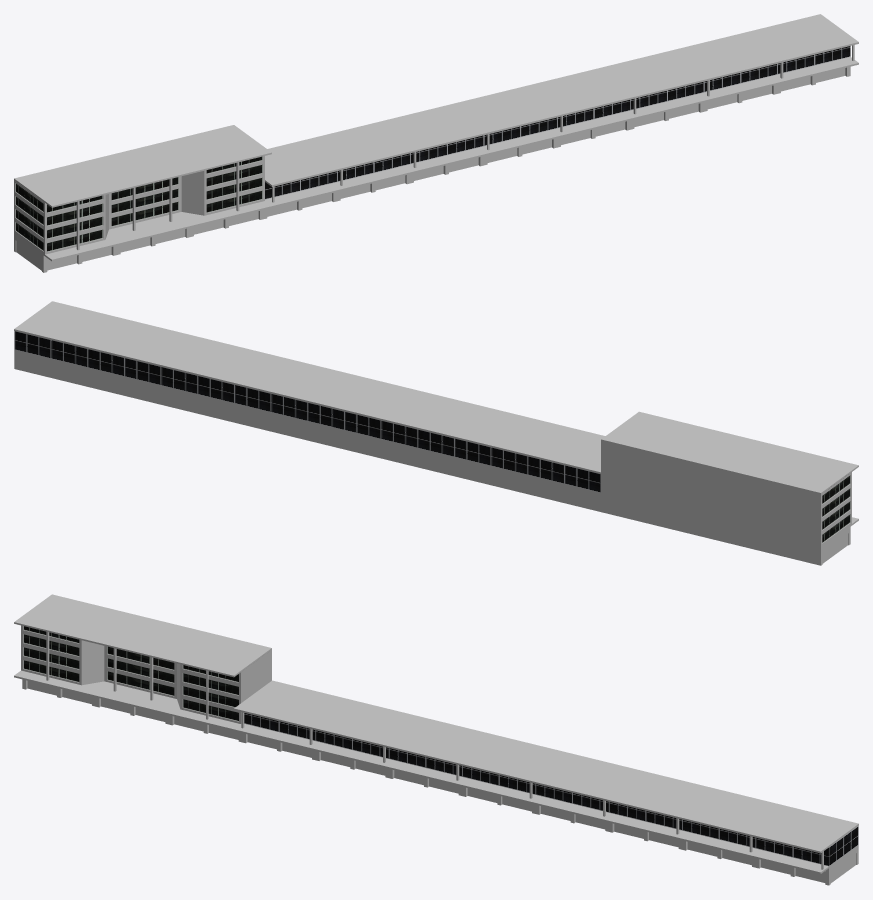
Rendered from Building-Grid-09.fbx.
The picture shows the model from 3 angles, top to bottom: view 1: azimuth 30°, elevation 25°; view 2: azimuth 150°, elevation 25°; view 3: azimuth 330°, elevation 25°; orthographic projection.
Visible parts, largest first — view 1: Building-Grid-09; view 2: Building-Grid-09; view 3: Building-Grid-09.
Boxes of the visible parts, box(x1,y1,x2,y2) form: Building-Grid-09: box(14, 14, 858, 272); Building-Grid-09: box(14, 301, 858, 565); Building-Grid-09: box(14, 594, 858, 885).
Bounding box in the file's own units: 22000 × 1895 × 1807.
